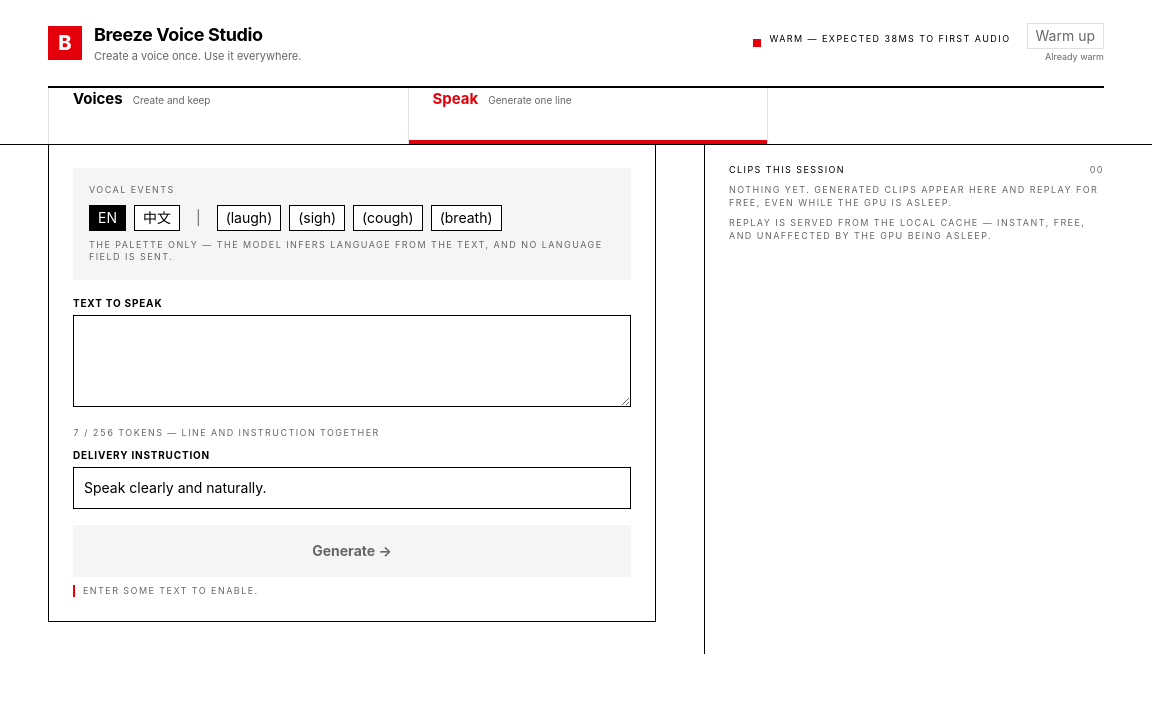
Test: a 409 that may be someone else › introduces no polling and no push
(page scrolled)
Expected: the text "Warm — expected 38ms to first audio" is shown, [769,33,1010,45]
In the text box labelled "Text to speak": (352, 361) [73,315,631,407], type "Nothing here subscribes to anything."
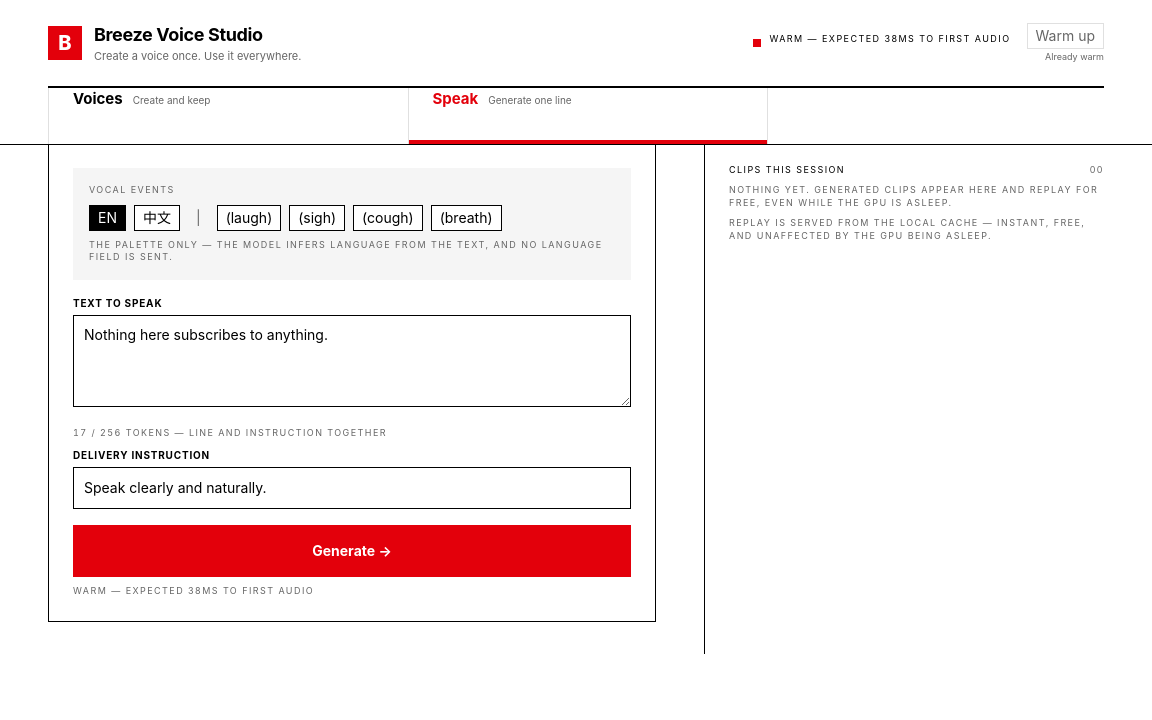
Click the button "Generate →": (352, 551) [73,525,631,577]
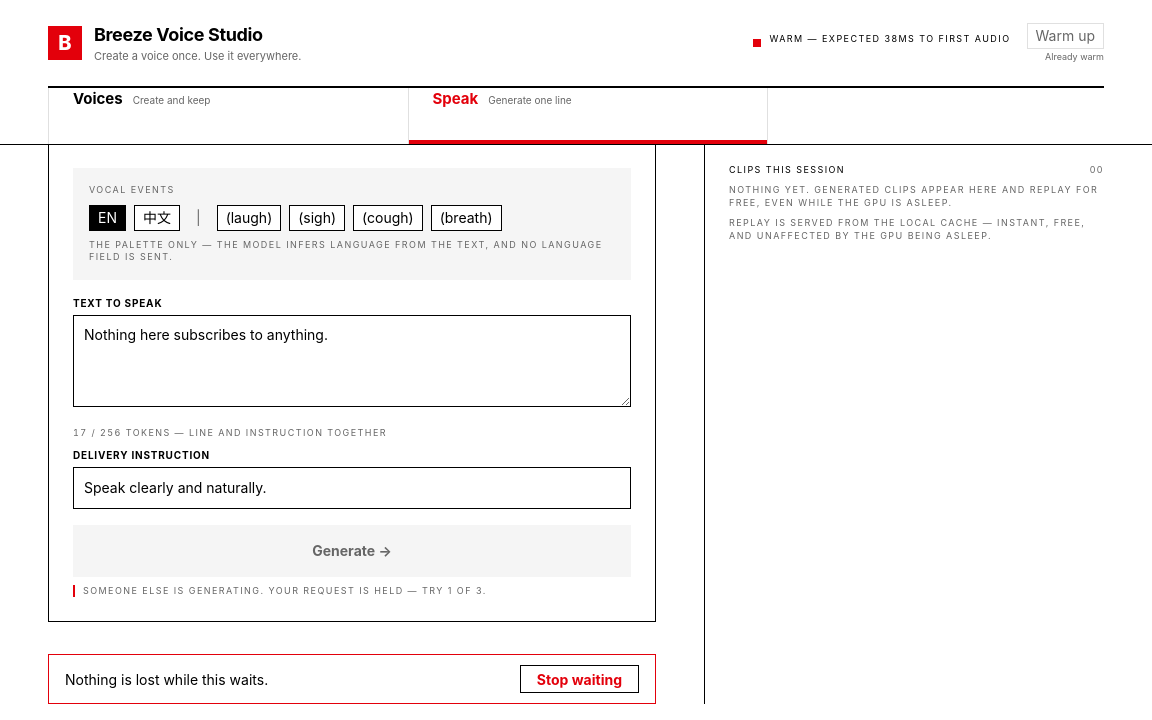
Result: the message named "Generate status" shows "Someone else is generating" at [83,585,487,596]
